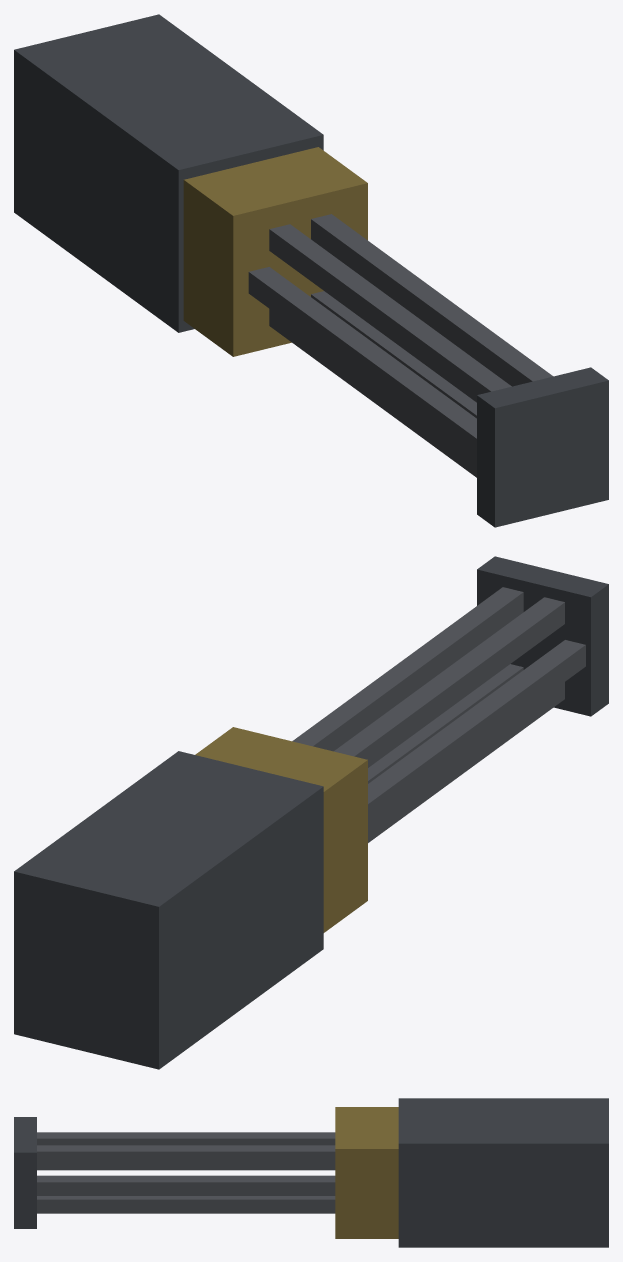
3 renders of one model, top to bottom at view 1: azimuth 30°, elevation 25°; view 2: azimuth 150°, elevation 25°; view 3: azimuth 270°, elevation 25°, orthographic. The views are drawn at different scales.
Size of the model in its own units: 0.28 by 0.3 by 1.56.
